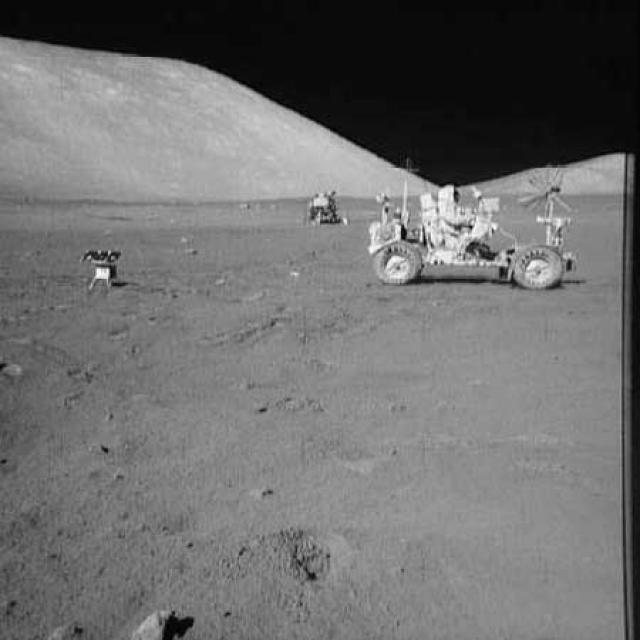artifact: (365, 154, 581, 294), (78, 246, 129, 287), (296, 186, 344, 228)
rock: (132, 600, 186, 639), (38, 614, 91, 638)
